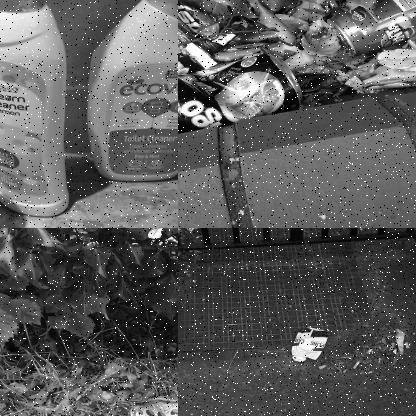metal: (178, 55, 303, 128), (178, 0, 251, 65), (325, 0, 415, 52), (290, 324, 331, 366)
plastic: (0, 0, 86, 222), (86, 0, 177, 183), (131, 401, 177, 415)
